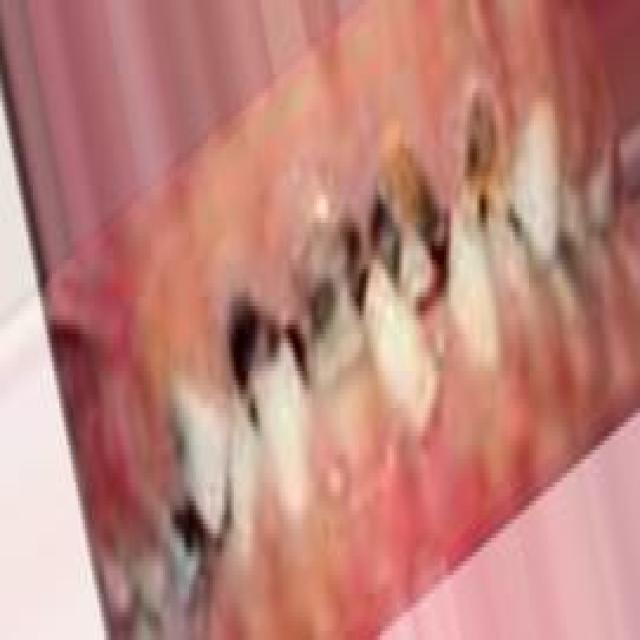caries: (368, 117, 448, 310), (289, 195, 366, 378), (452, 78, 526, 262), (221, 278, 286, 424), (157, 485, 219, 592), (160, 378, 207, 483)
